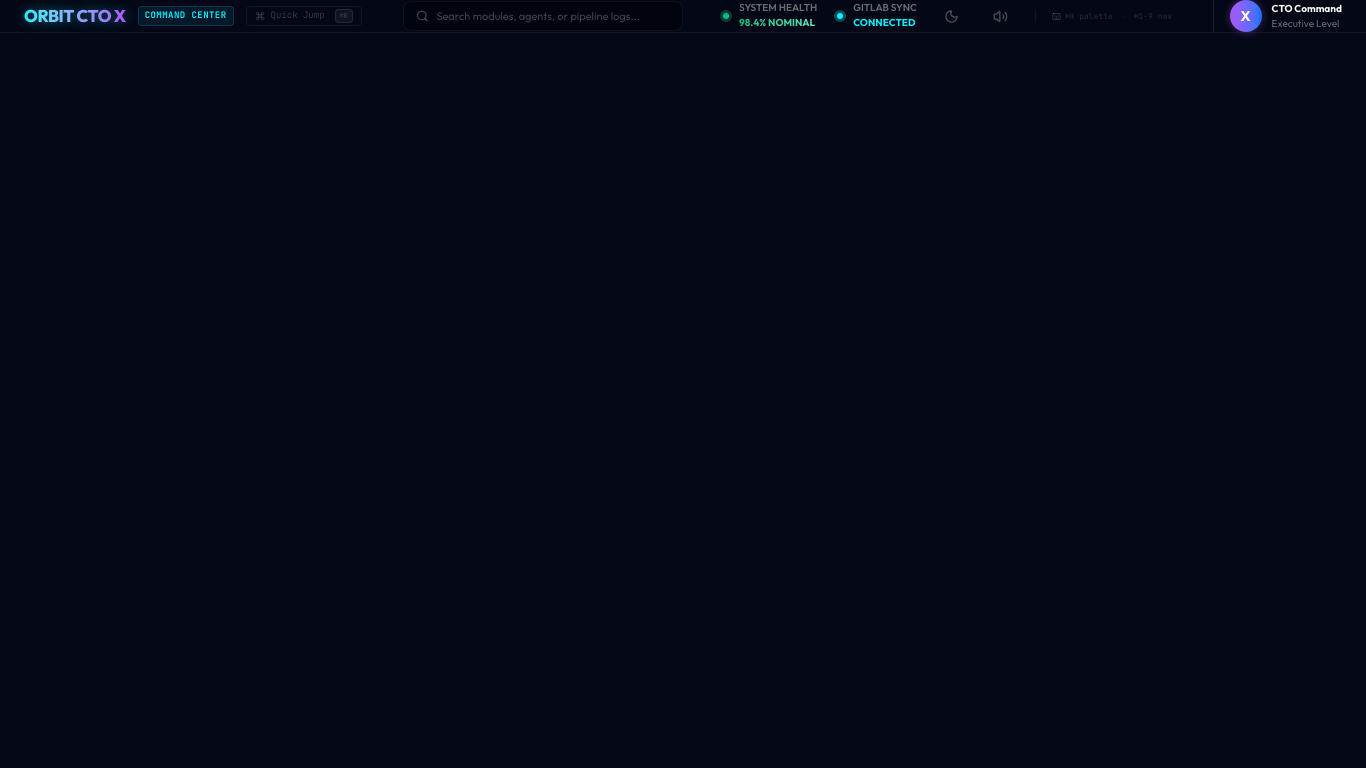
Test: CommandBar › command palette › shows empty state when search matches no items
Click the text "Quick Jump".
click(298, 16)  # box [271,9,325,23]
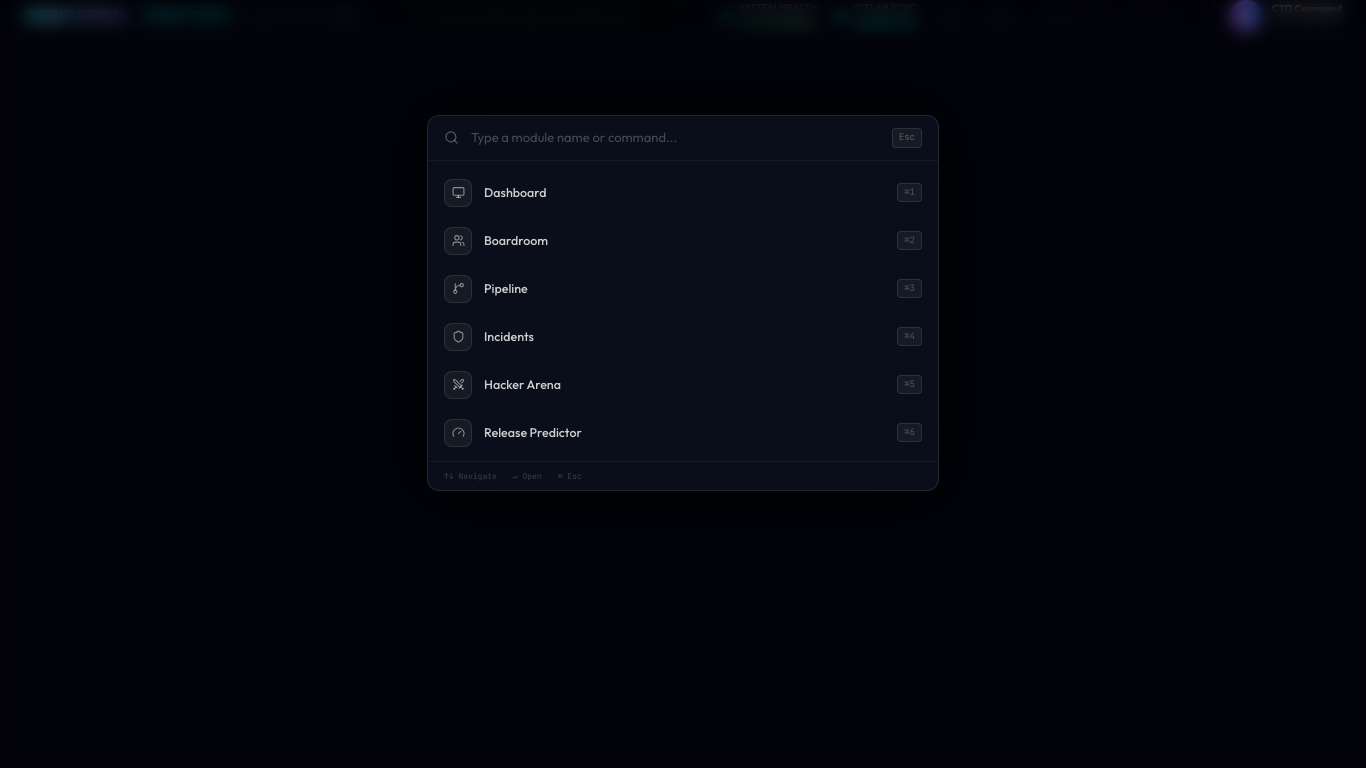
Type "xyzzy_nonexistent" into the field with placeholder "Type a module name or command...".
click(675, 138); type("xyzzy_nonexistent")  # box [471,128,880,148]
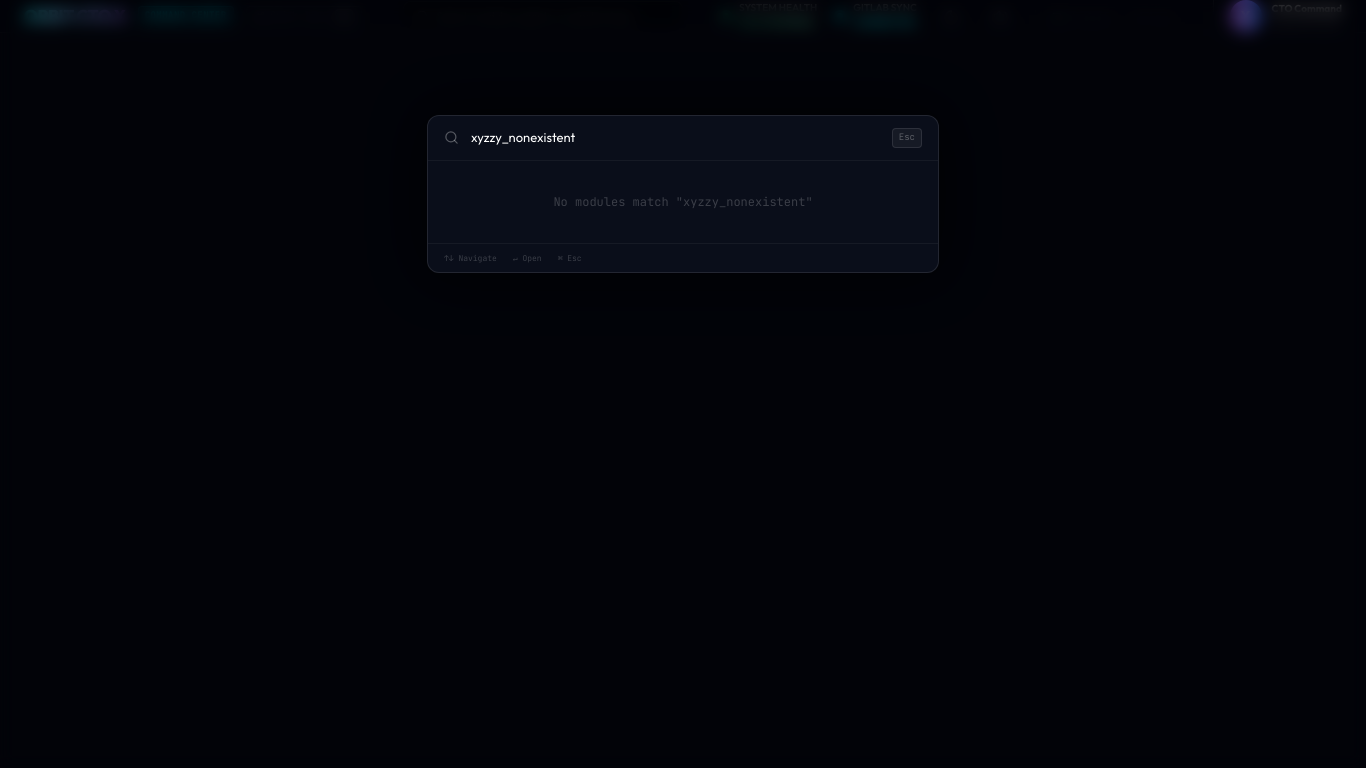
Result: the text "No modules match \"xyzzy_nonexistent\"" is shown at [553,194,813,210]
